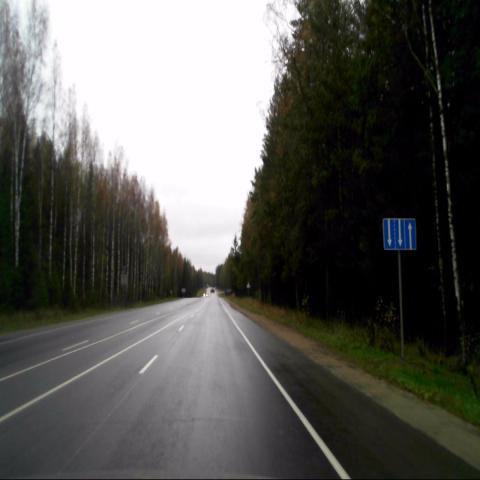5_15_7: (383, 218, 417, 252)
